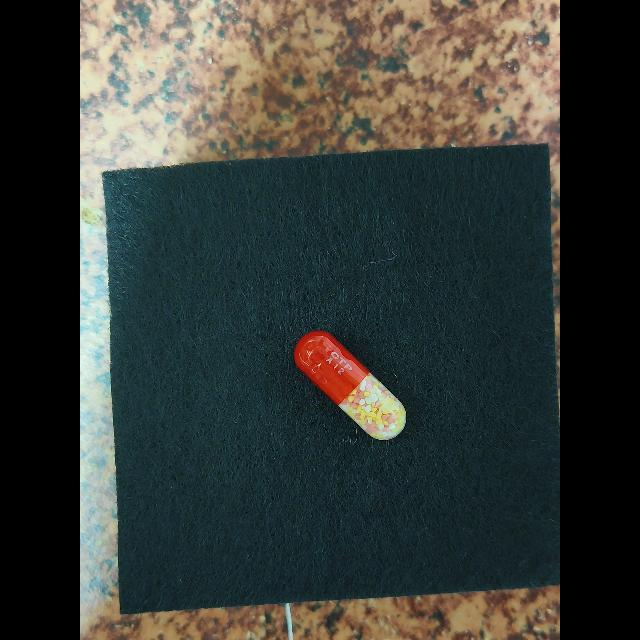Intact Capsule: (294, 330, 407, 440)
